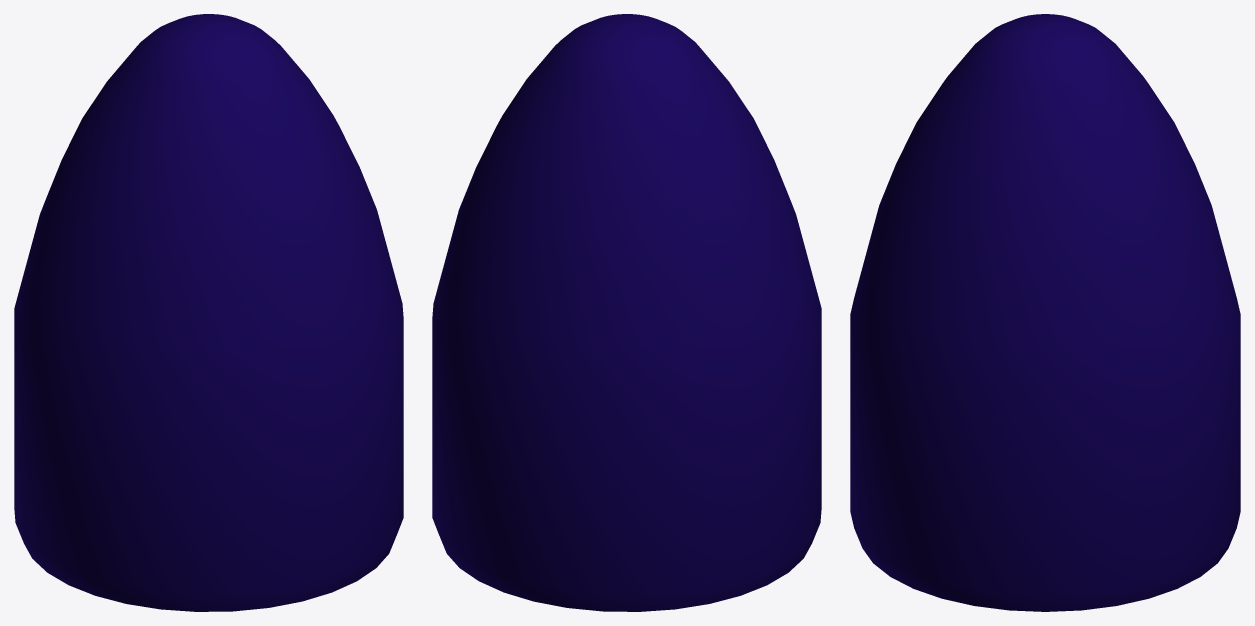
The model's file is Bullet (HQ).FBX.
The picture shows the model from 3 angles, left to right: view 1: azimuth 30°, elevation 25°; view 2: azimuth 150°, elevation 25°; view 3: azimuth 270°, elevation 25°; orthographic projection.
Visible parts, largest first — view 1: Bullet; view 2: Bullet; view 3: Bullet.
Part boxes in pixels (<box>): Bullet: <box>14,14,403,611</box>; Bullet: <box>432,14,821,611</box>; Bullet: <box>850,14,1240,611</box>.
Bounding box in the file's own units: 1.13 × 1.66 × 1.13.
